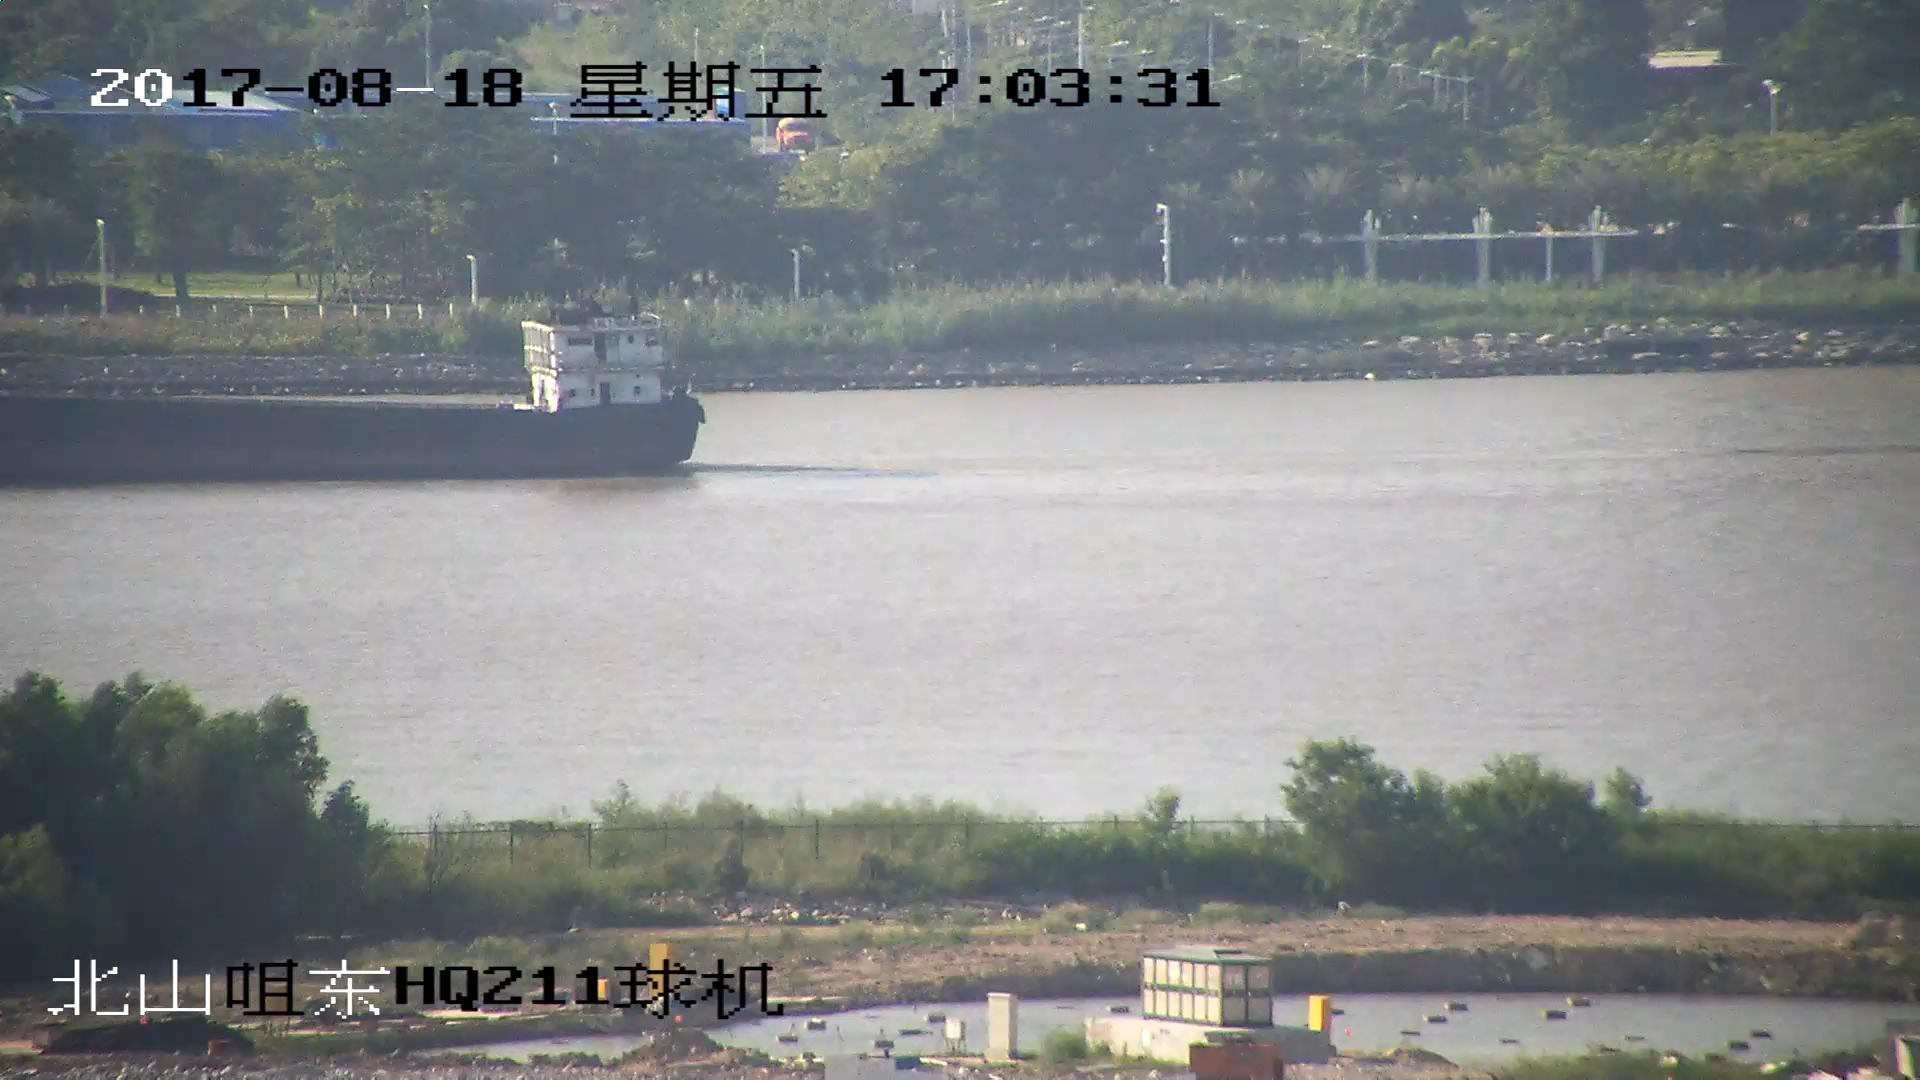Ship: (3, 307, 713, 477)
